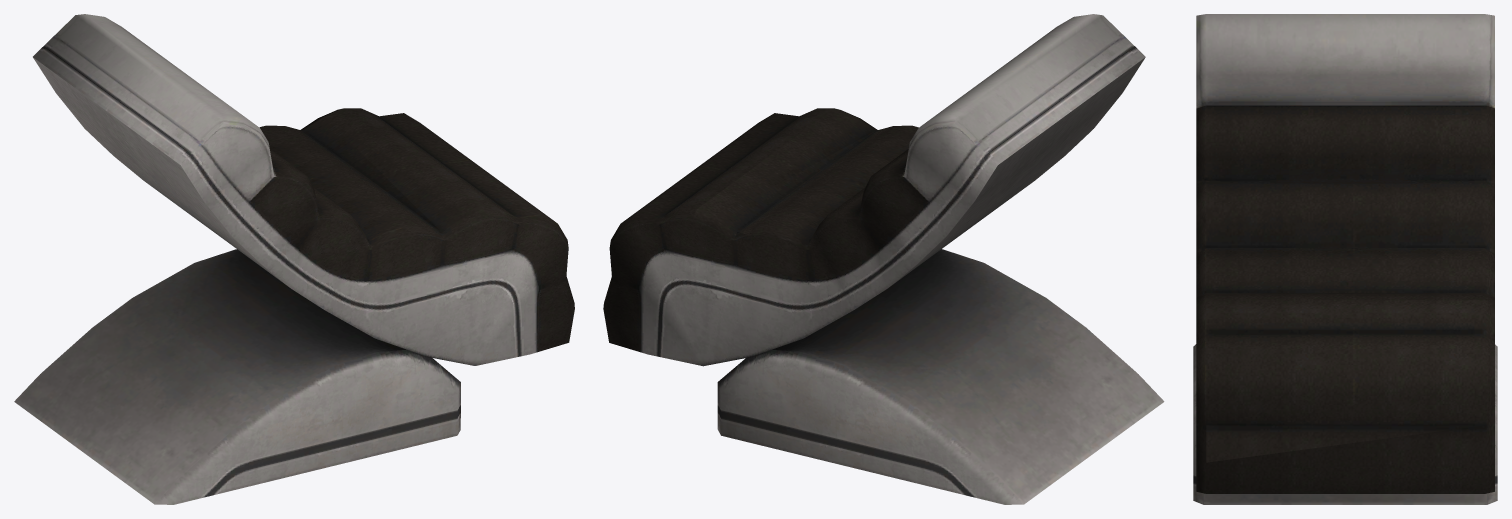
File: ChairReclining01.FBX
3 renders of one model, left to right at view 1: azimuth 30°, elevation 25°; view 2: azimuth 150°, elevation 25°; view 3: azimuth 270°, elevation 25°, orthographic.
Parts seen in each view (by area): view 1: ChairReclining01; view 2: ChairReclining01; view 3: ChairReclining01.
Boxes of the visible parts, x1=… form: ChairReclining01: x1=14, y1=14, x2=574, y2=504; ChairReclining01: x1=603, y1=14, x2=1164, y2=504; ChairReclining01: x1=1193, y1=14, x2=1497, y2=504.
Size of the model in its own units: 0.973 by 0.82 by 0.604.
